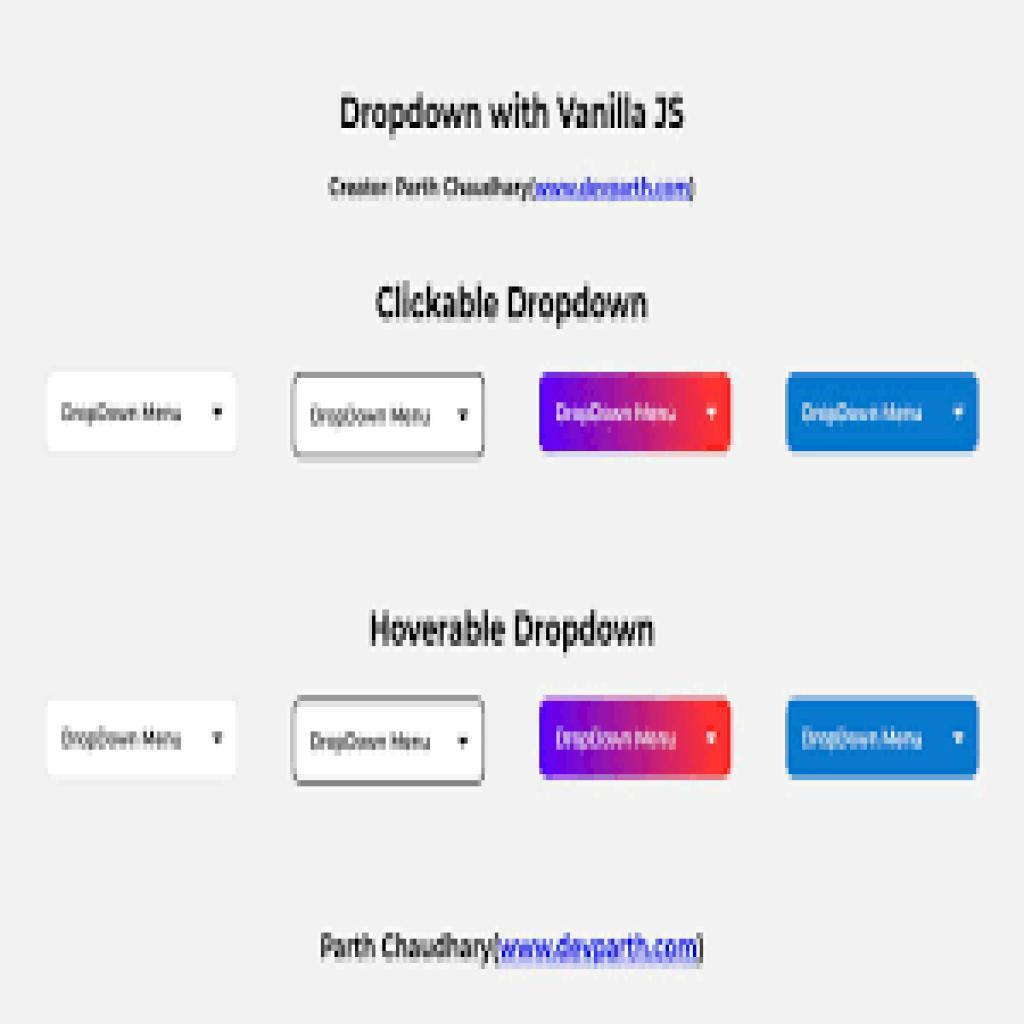dropdown: (43, 371, 247, 456), (298, 699, 485, 784), (789, 371, 979, 454), (538, 374, 728, 455), (540, 699, 735, 777), (297, 378, 484, 458), (789, 703, 976, 778), (47, 711, 240, 779)
